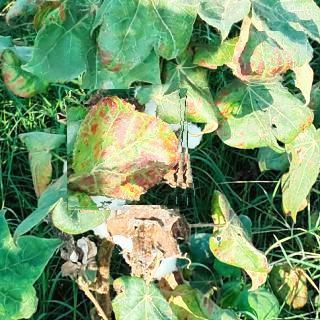blight: (67, 85, 192, 210), (217, 31, 307, 87)
